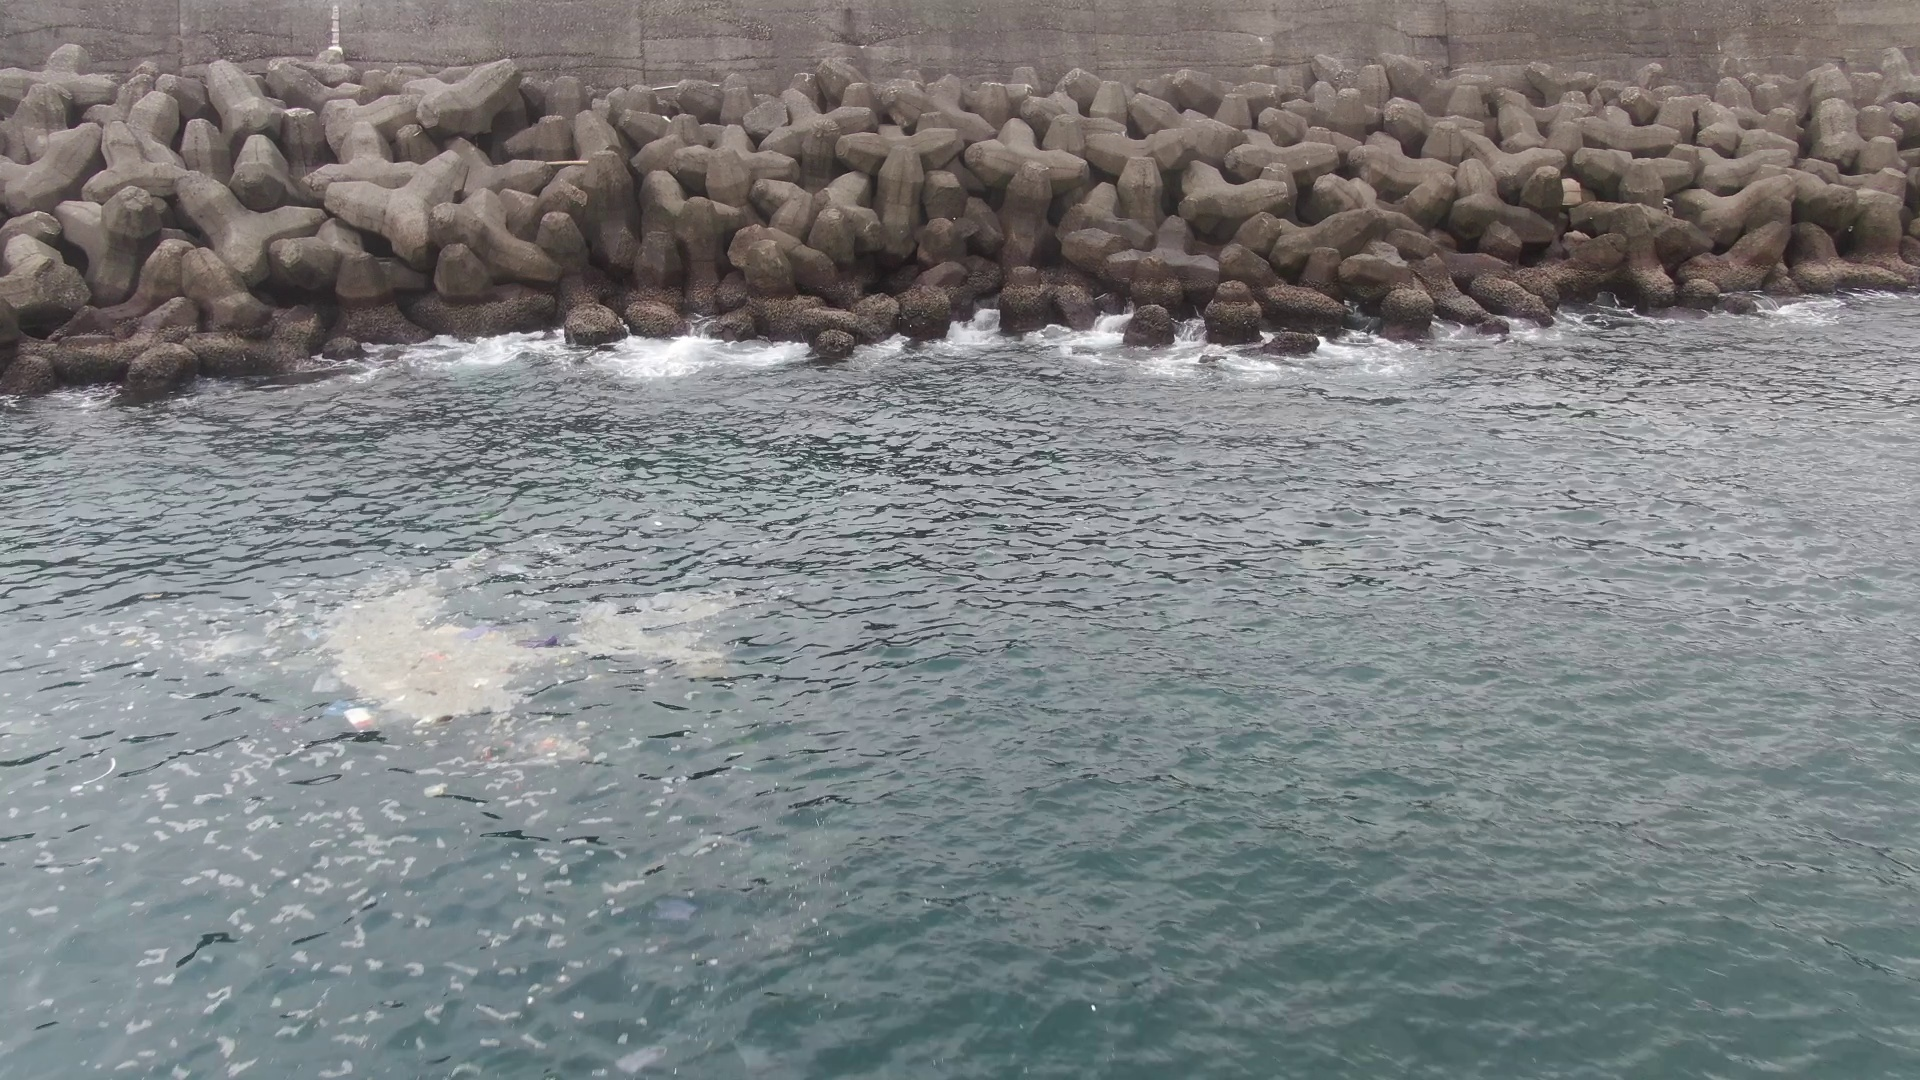garbage: (307, 599, 615, 767), (615, 1040, 675, 1072), (655, 897, 698, 927)
